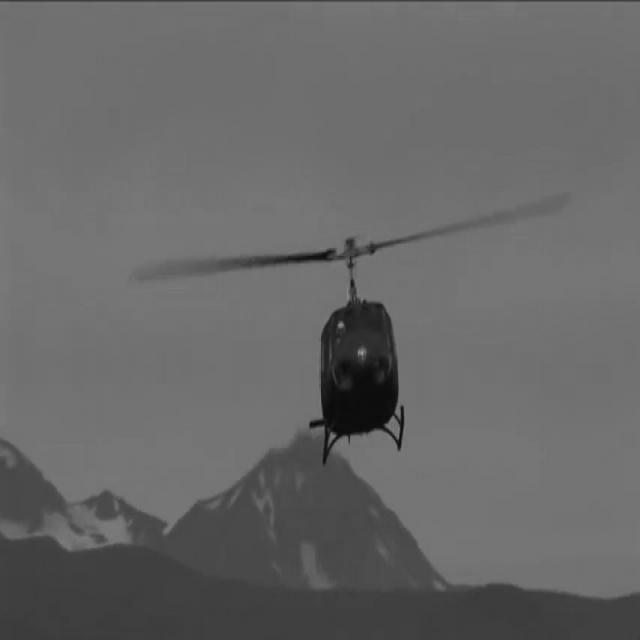helikopter: (258, 257, 454, 475)
